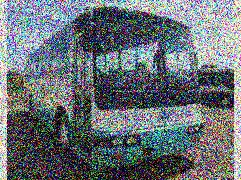bus: (23, 3, 204, 175)
